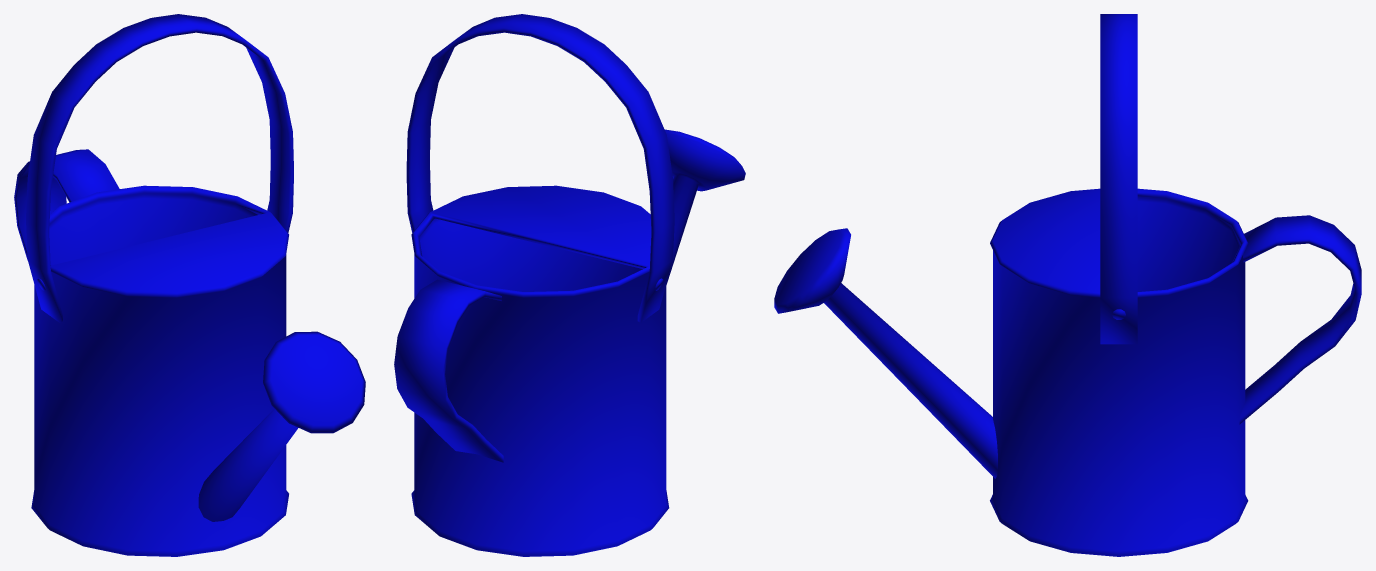
The model's file is tool6.fbx.
The picture shows the model from 3 angles, left to right: view 1: azimuth 30°, elevation 25°; view 2: azimuth 150°, elevation 25°; view 3: azimuth 270°, elevation 25°; orthographic projection.
Visible parts, largest first — view 1: Water_can_Circle.004; view 2: Water_can_Circle.004; view 3: Water_can_Circle.004.
Part boxes in pixels (x1=…): Water_can_Circle.004: x1=14, y1=14, x2=365, y2=556; Water_can_Circle.004: x1=394, y1=14, x2=745, y2=556; Water_can_Circle.004: x1=774, y1=14, x2=1361, y2=556.
Size of the model in its own units: 613 by 1124 by 1257.
